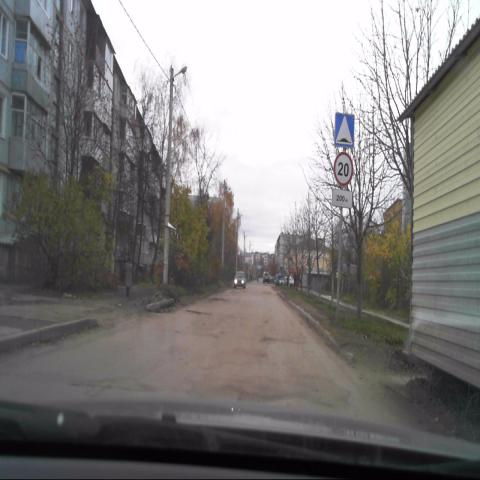8_1_1: (332, 189, 352, 210)
